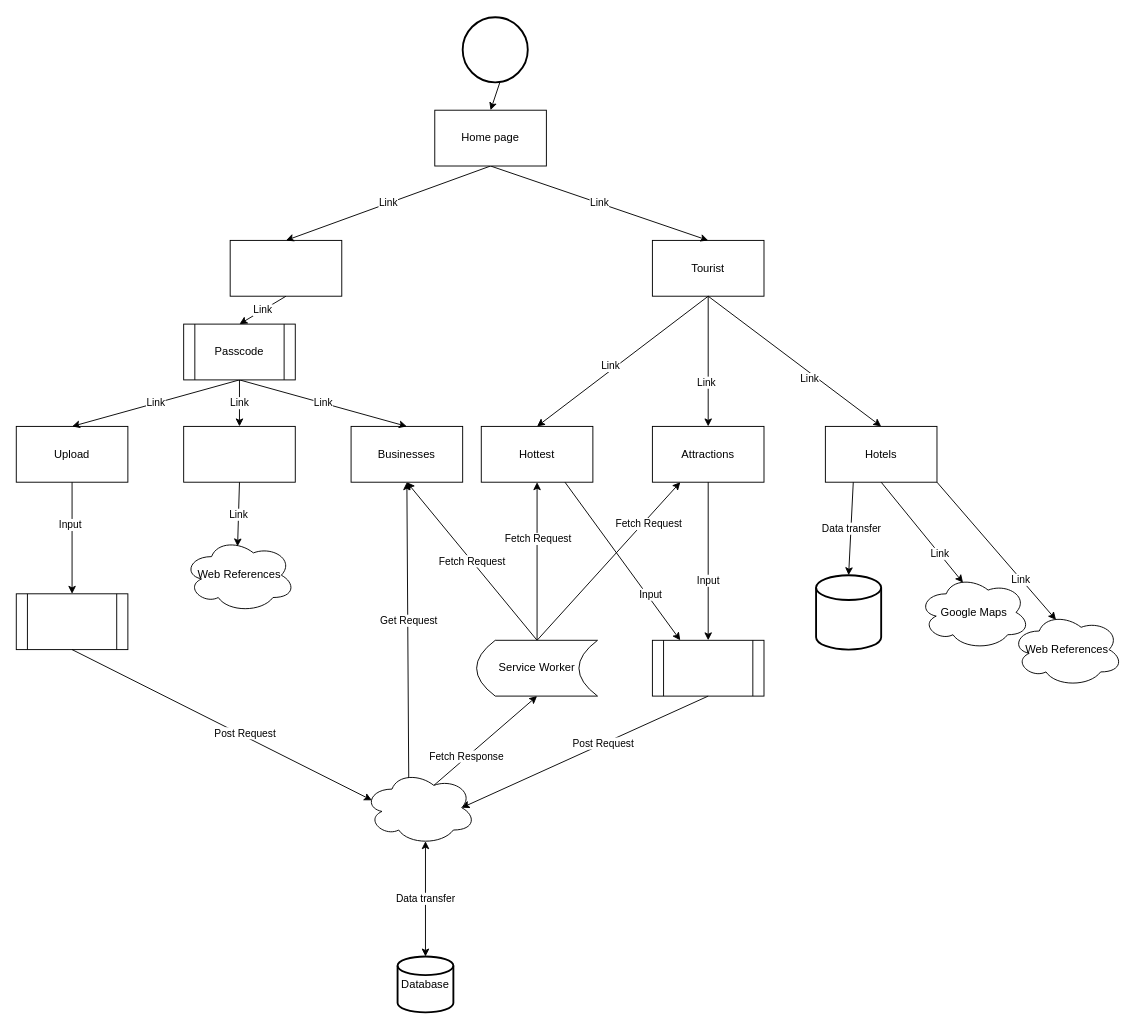
Image size: 1139x1029. Some labels were removed from this diagram. The shapes that lost their labels are listed below. From the top down, each one's centre as x and y in pixels, then its label:
At (x=494, y=49): "Start".
At (x=285, y=267): "Local Business".
At (x=239, y=453): "Explore New Markets".
At (x=71, y=621): "Business Input".
At (x=848, y=612): "Local Offline Map".
At (x=707, y=667): "Rating Input".
At (x=419, y=807): "Server".
